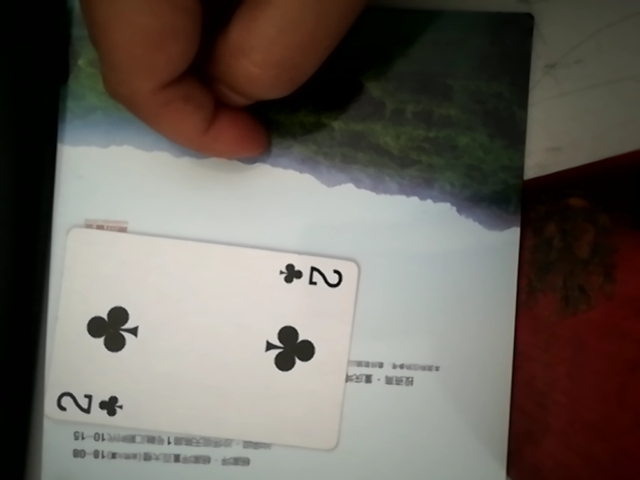mh 2: (42, 227, 356, 454)
